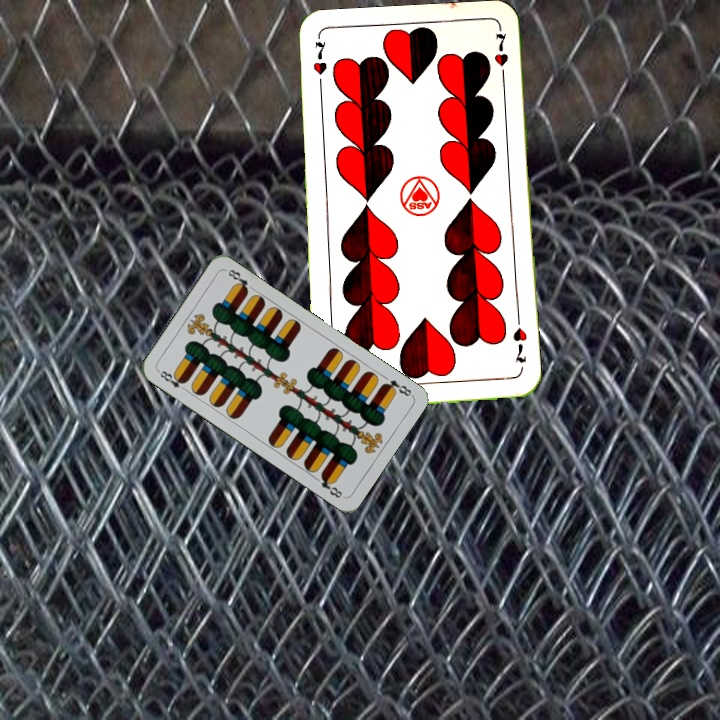E8: (154, 366, 190, 394), (378, 375, 415, 399)
H7: (309, 37, 330, 94), (509, 323, 530, 365)
